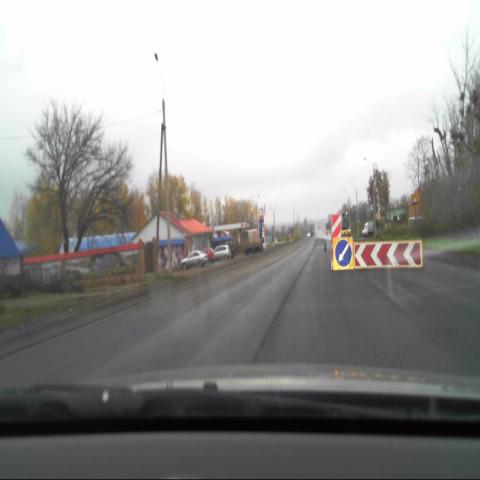1_16: (410, 192, 419, 207)
4_2_2: (332, 237, 354, 270)
